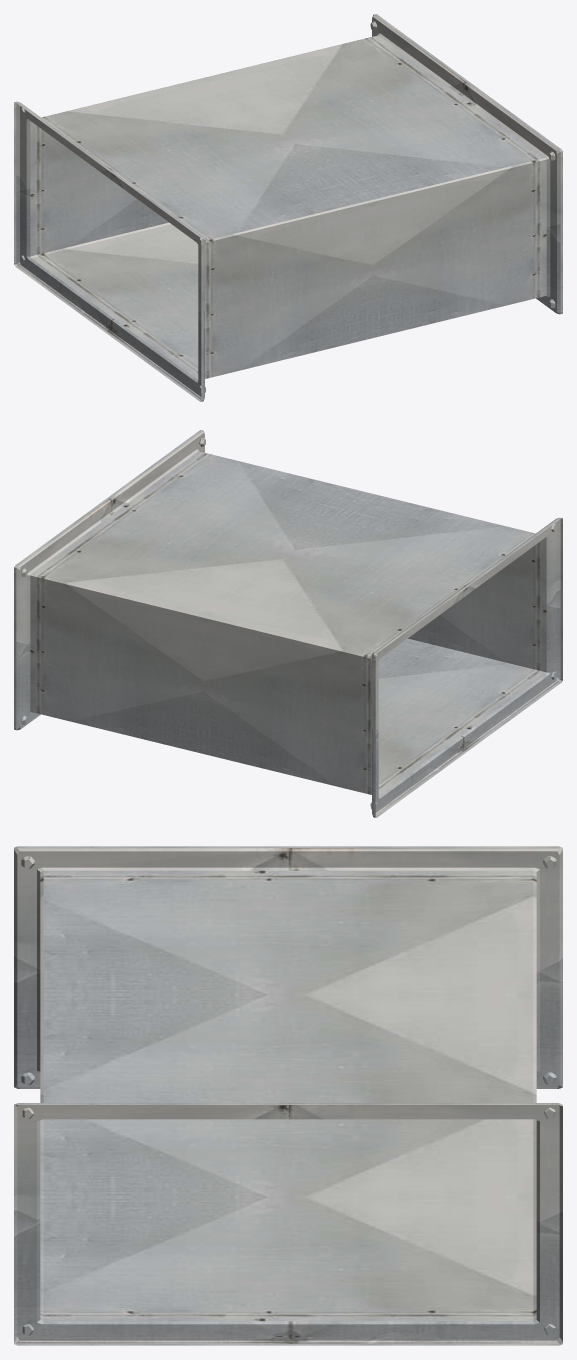
Rendered from Air Vent.fbx.
3 views of the same model, one above another, from view 1: azimuth 30°, elevation 25°; view 2: azimuth 150°, elevation 25°; view 3: azimuth 270°, elevation 25° (orthographic). The views are drawn at different scales.
Visible parts, largest first — view 1: Cube.027; view 2: Cube.027; view 3: Cube.027.
Boxes of the visible parts, x1,y1,x2,y2 form: Cube.027: (14,14,562,401); Cube.027: (14,430,562,817); Cube.027: (14,846,562,1345).
Bounding box in the file's own units: 560 × 243 × 502.
1 material, 1 textured.
